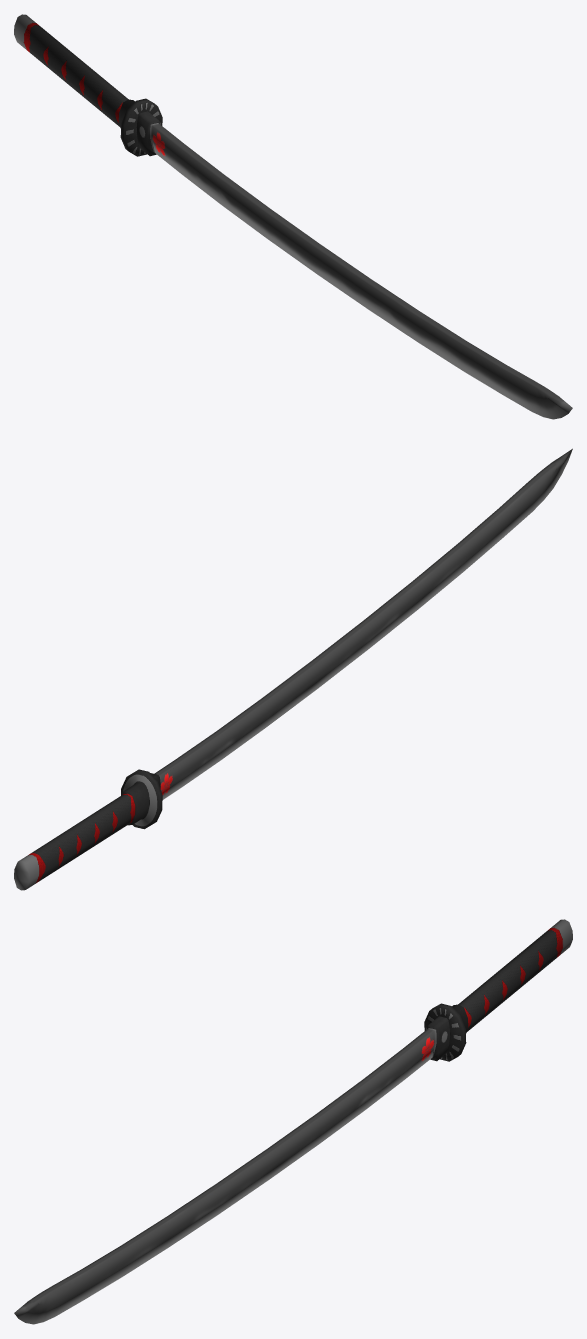
The model's file is WPN2_SWD_Katana.fbx.
The picture shows the model from 3 angles, top to bottom: view 1: azimuth 30°, elevation 25°; view 2: azimuth 150°, elevation 25°; view 3: azimuth 330°, elevation 25°; orthographic projection.
Visible parts, largest first — view 1: WPN2_SWD_Katana; view 2: WPN2_SWD_Katana; view 3: WPN2_SWD_Katana.
Boxes of the visible parts, bbox=[...] form: WPN2_SWD_Katana: bbox=[14, 14, 572, 419]; WPN2_SWD_Katana: bbox=[14, 448, 572, 890]; WPN2_SWD_Katana: bbox=[14, 919, 572, 1324].
Bounding box in the file's own units: 3.18 × 4.97 × 79.56.
